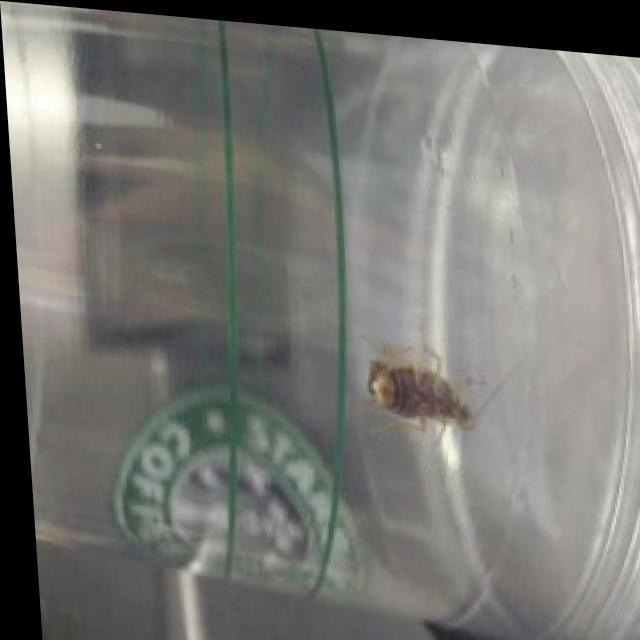cockroach: (360, 334, 486, 439)
